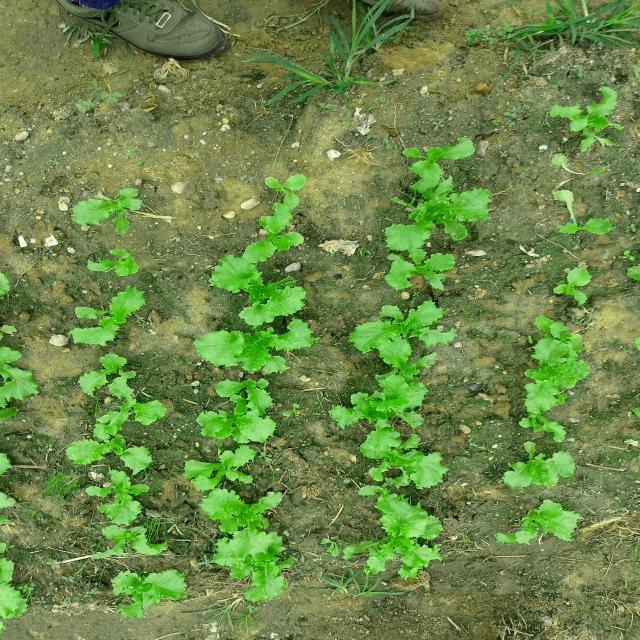Lettuce: (358, 496, 460, 574), (184, 317, 320, 374), (205, 252, 301, 325), (382, 183, 489, 244), (184, 382, 283, 441), (202, 540, 295, 602), (335, 375, 432, 433), (344, 313, 456, 363), (358, 430, 446, 492), (548, 89, 628, 156), (67, 287, 148, 350), (105, 563, 188, 624), (188, 488, 290, 537), (70, 179, 155, 237), (68, 472, 160, 524), (532, 318, 599, 389), (382, 243, 461, 293), (180, 443, 262, 490), (552, 183, 612, 246), (64, 433, 151, 476), (510, 499, 588, 546), (241, 208, 311, 260), (504, 446, 582, 491), (90, 391, 166, 434), (402, 137, 477, 180), (0, 348, 42, 412), (87, 528, 165, 562), (516, 384, 564, 436), (77, 356, 134, 399), (85, 242, 143, 279), (254, 170, 317, 203), (553, 266, 603, 307), (0, 585, 31, 632), (0, 486, 18, 531), (0, 548, 20, 582), (0, 451, 9, 482)
